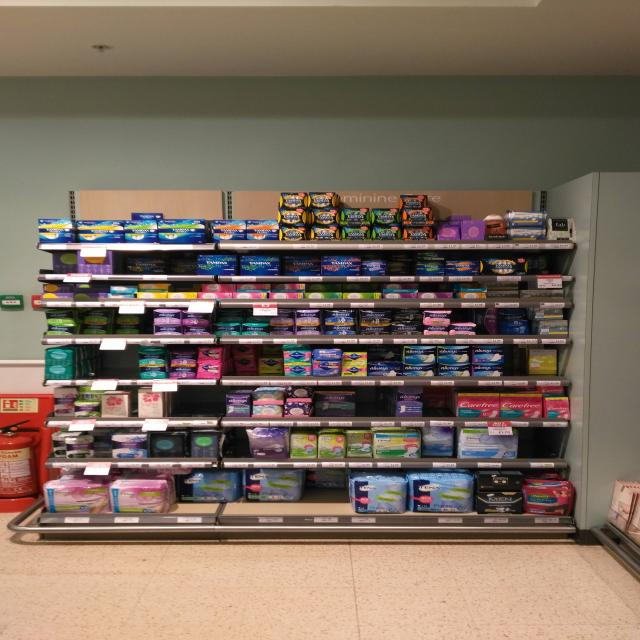empty: (82, 343, 142, 379), (164, 386, 225, 419), (520, 432, 561, 461), (360, 389, 397, 421), (503, 345, 530, 379), (226, 430, 249, 460)
